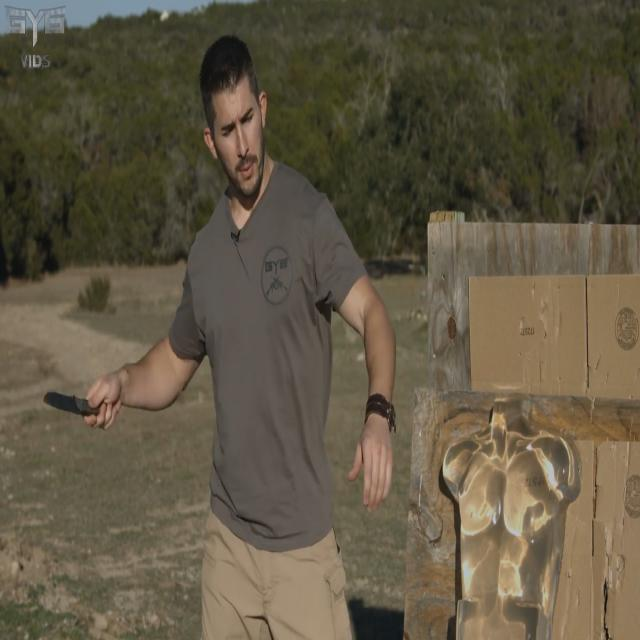knife: (42, 384, 106, 421)
